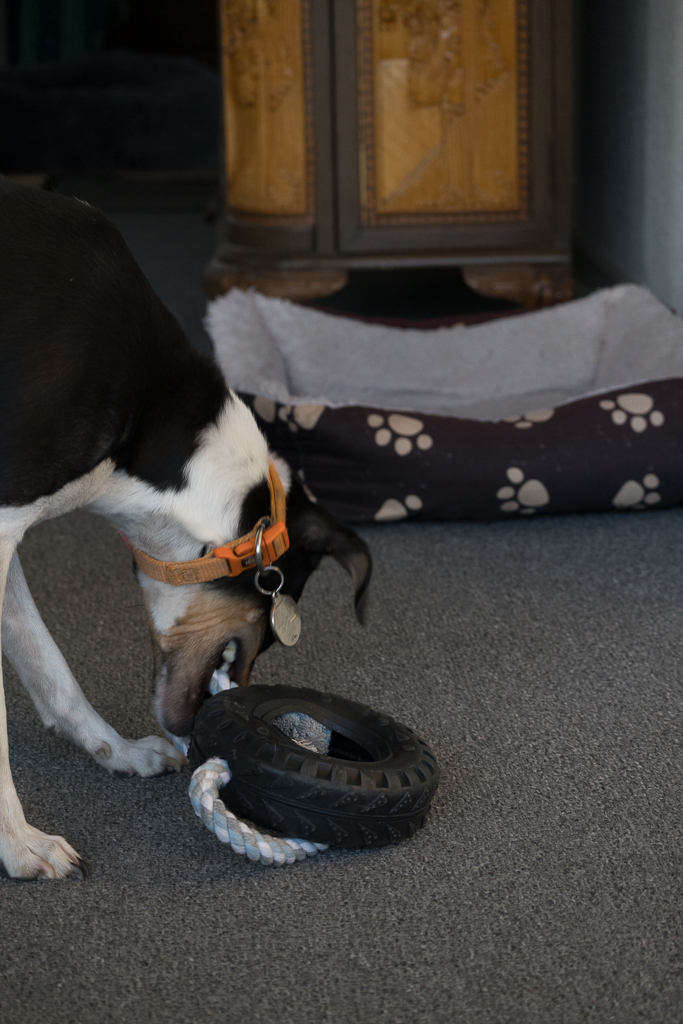Dog: (0, 180, 383, 898)
